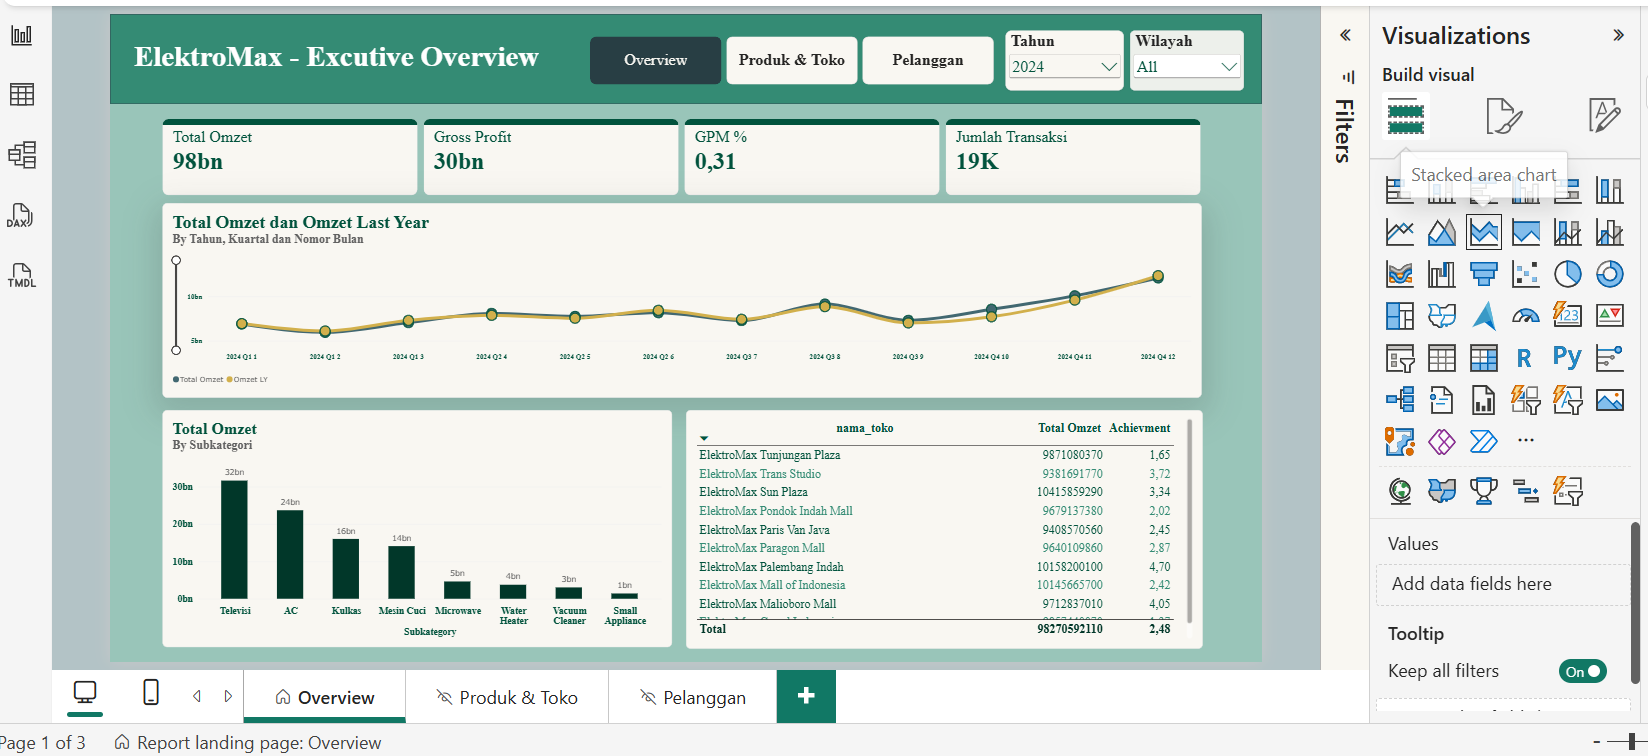

The dashboard page shown, as its layout file describes it:
{"tool":"powerbi","page":{"name":"Overview","canvas":[1920,1080],"ordinal":0},"visuals":[{"type":"shape","box":[0,0,1920,150.2],"z":0},{"type":"cardVisual","fields":{"Data":["_MEASURE.Total Omzet","_MEASURE.Gross Profit","_MEASURE.GPM %","_MEASURE.Jumlah Transaksi"]},"box":[87.5,175,1732.5,127.5],"z":1000},{"type":"slicer","fields":{"Values":["DIM_WAKTU.tahun"]},"box":[1493.5,28.5,197.5,100],"z":2000},{"type":"lineChart","title":"Total Omzet dan Omzet Last Year","fields":{"Category":["DIM_WAKTU.tahun Hierarki.tahun","DIM_WAKTU.tahun Hierarki.kuartal","DIM_WAKTU.tahun Hierarki.nomor_bulan","DIM_WAKTU.tahun Hierarki.tanggal"],"Y":["_MEASURE.Total Omzet","_MEASURE.Omzet LY"]},"box":[87.8,314.7,1732.3,324.5],"z":3000},{"type":"columnChart","title":"Total Omzet","fields":{"Category":["DIM_PRODUK.subkategori"],"Y":["_MEASURE.Total Omzet"]},"box":[87.8,661.2,849.1,395.3],"z":4000},{"type":"slicer","title":"Wilayah","fields":{"Values":["DIM_TOKO.wilayah"]},"box":[1701,28.5,190,100],"z":5000},{"type":"tableEx","fields":{"Values":["DIM_TOKO.nama_toko","_MEASURE.Total Omzet","_MEASURE.Achievment"]},"box":[958.8,658.8,861.3,397.7],"z":6000},{"type":"textbox","box":[0,898,336,182],"z":7000},{"type":"textbox","box":[39,41.5,730,67.5],"z":8000},{"type":"pageNavigator","box":[800.3,36.6,673.4,80.5],"z":9000}]}

Visuals, with their boxes on the page's 1920x1080 design canvas (x1, y1, x2, y2). These are canvas units, not pixel positions in the 1648x756 screenshot, which may show the page scaled, cropped or inside an application window:
shape: [left=0, top=0, right=1920, bottom=150]
cardVisual - _MEASURE.Total Omzet x _MEASURE.Gross Profit: [left=88, top=175, right=1820, bottom=302]
slicer - DIM_WAKTU.tahun: [left=1494, top=28, right=1691, bottom=128]
"Total Omzet dan Omzet Last Year" lineChart: [left=88, top=315, right=1820, bottom=639]
"Total Omzet" columnChart: [left=88, top=661, right=937, bottom=1056]
"Wilayah" slicer: [left=1701, top=28, right=1891, bottom=128]
tableEx - DIM_TOKO.nama_toko x _MEASURE.Total Omzet: [left=959, top=659, right=1820, bottom=1056]
textbox: [left=0, top=898, right=336, bottom=1080]
textbox: [left=39, top=42, right=769, bottom=109]
pageNavigator: [left=800, top=37, right=1474, bottom=117]
